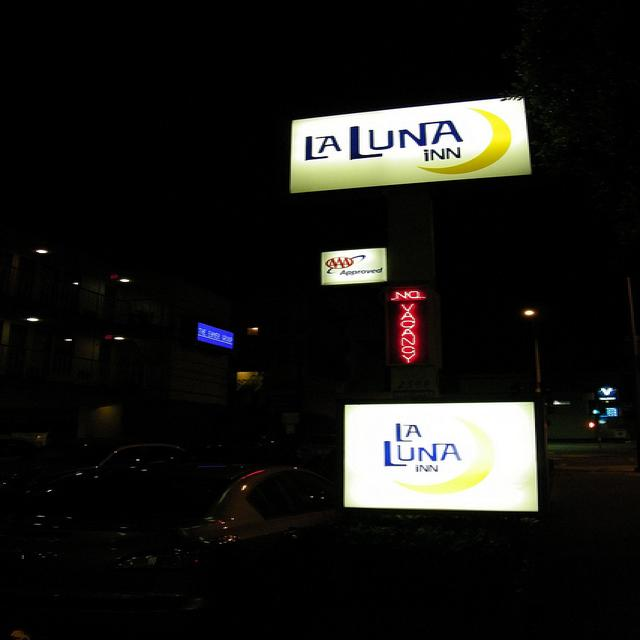Car: (0, 344, 377, 615)
